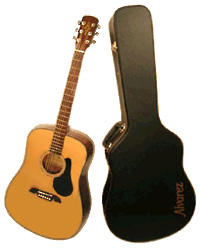guitar: (3, 13, 102, 241)
